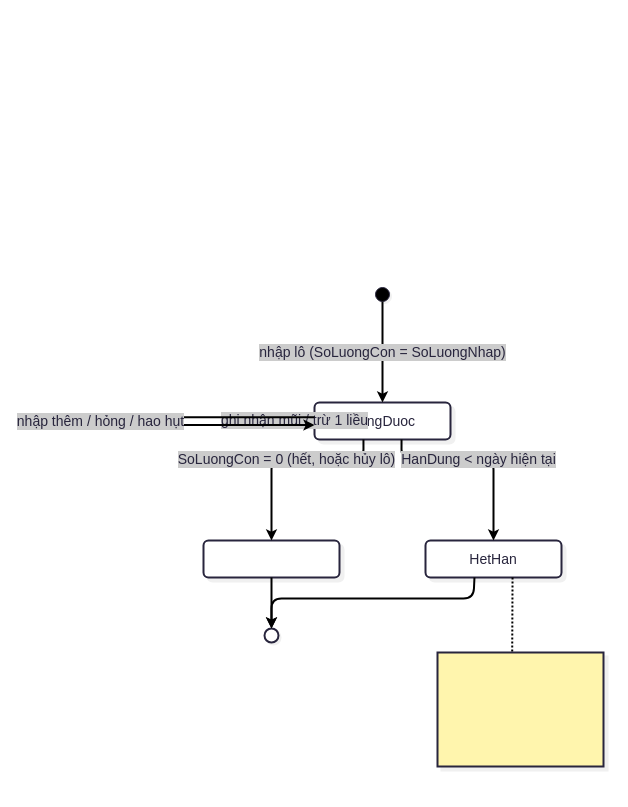
Some shapes in this 628 by 807 pixel diagram are drawn without their labels. The centre of each missing label's shape, as x and y in pixels:
"HetLieu" belongs at point 273,560.
"Lô hết hạn không được chọn khi ghi nhận mũi tiêm" belongs at point 522,711.
